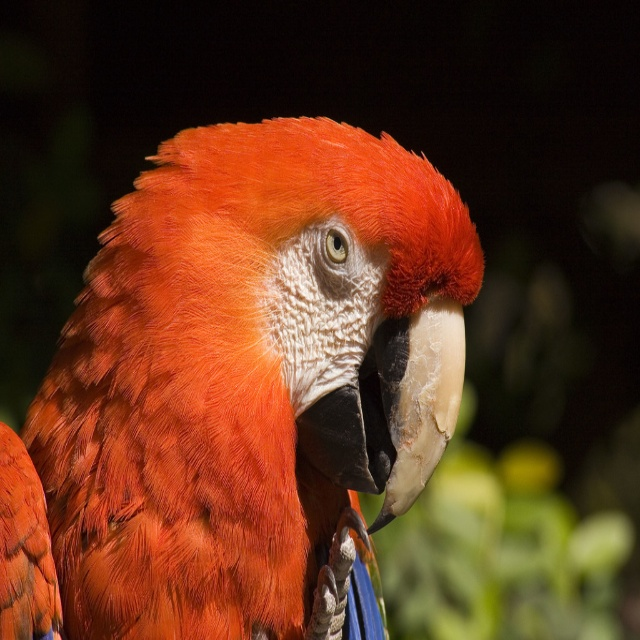Parrot: (0, 114, 486, 639)
